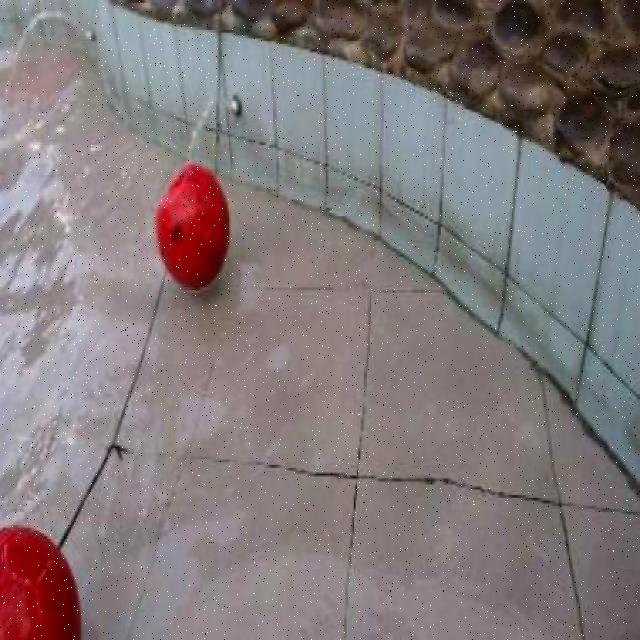buoy: (156, 164, 230, 290), (2, 522, 82, 637)
